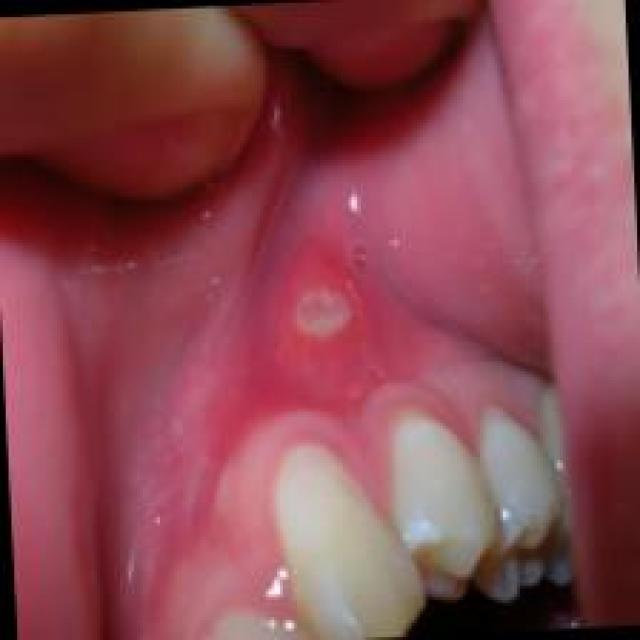processing_area: (3, 32, 579, 637)
ulcer-detection: (264, 250, 371, 377)
